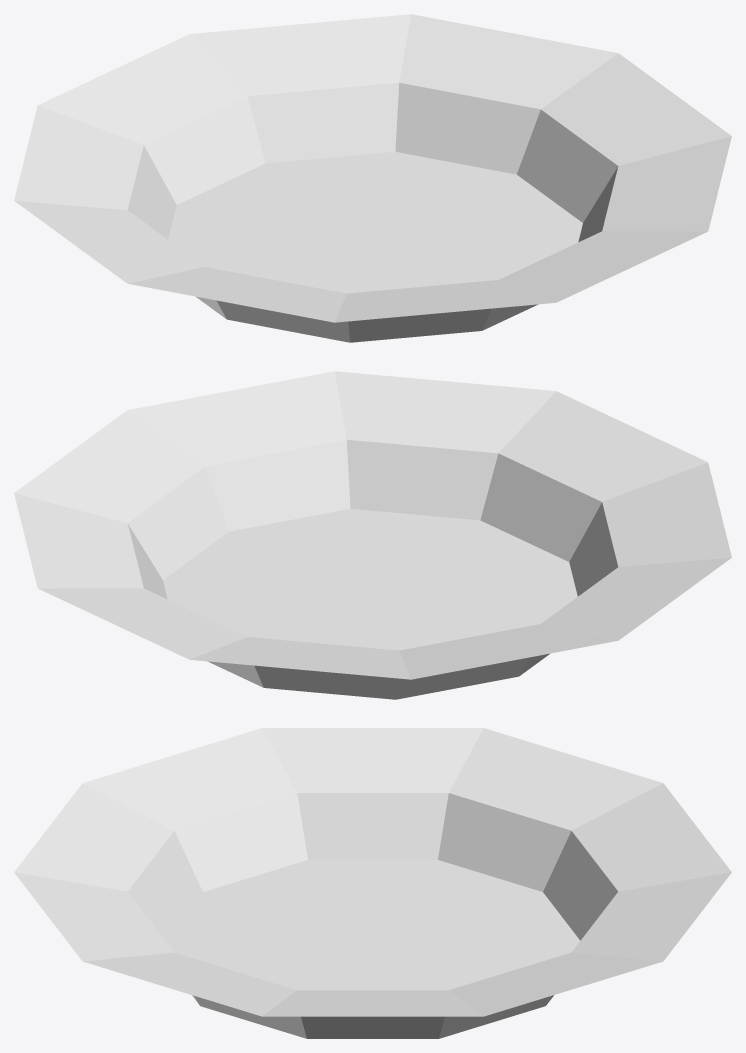
File: Plate.obj
The picture shows the model from 3 angles, top to bottom: view 1: azimuth 30°, elevation 25°; view 2: azimuth 150°, elevation 25°; view 3: azimuth 270°, elevation 25°; orthographic projection. The views are drawn at different scales.
Visible parts, largest first — view 1: Plate; view 2: Plate; view 3: Plate.
Boxes of the visible parts, x1,y1,x2,y2 form: Plate: [14, 14, 731, 342]; Plate: [14, 371, 731, 699]; Plate: [14, 728, 731, 1038].
Size of the model in its own units: 0.2679 by 0.035 by 0.2817.
